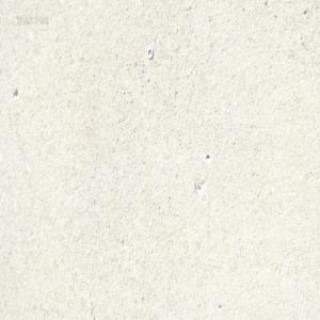Washertrack_idkeyframe: (146, 47, 154, 59)
